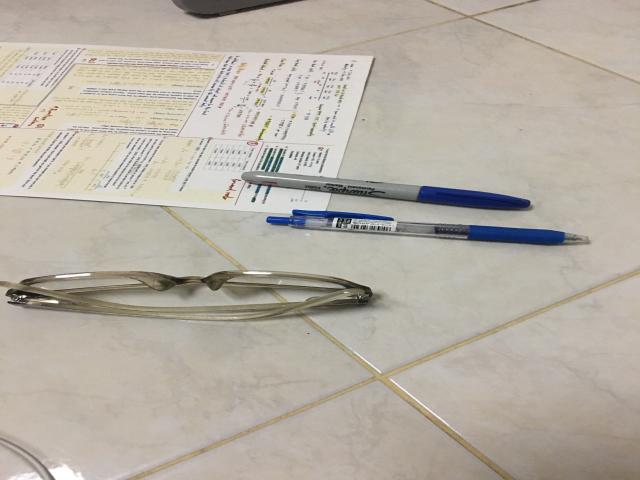Glasses: (2, 271, 372, 321)
Pen: (267, 210, 588, 244), (242, 172, 530, 209)
paper: (0, 43, 373, 213)
